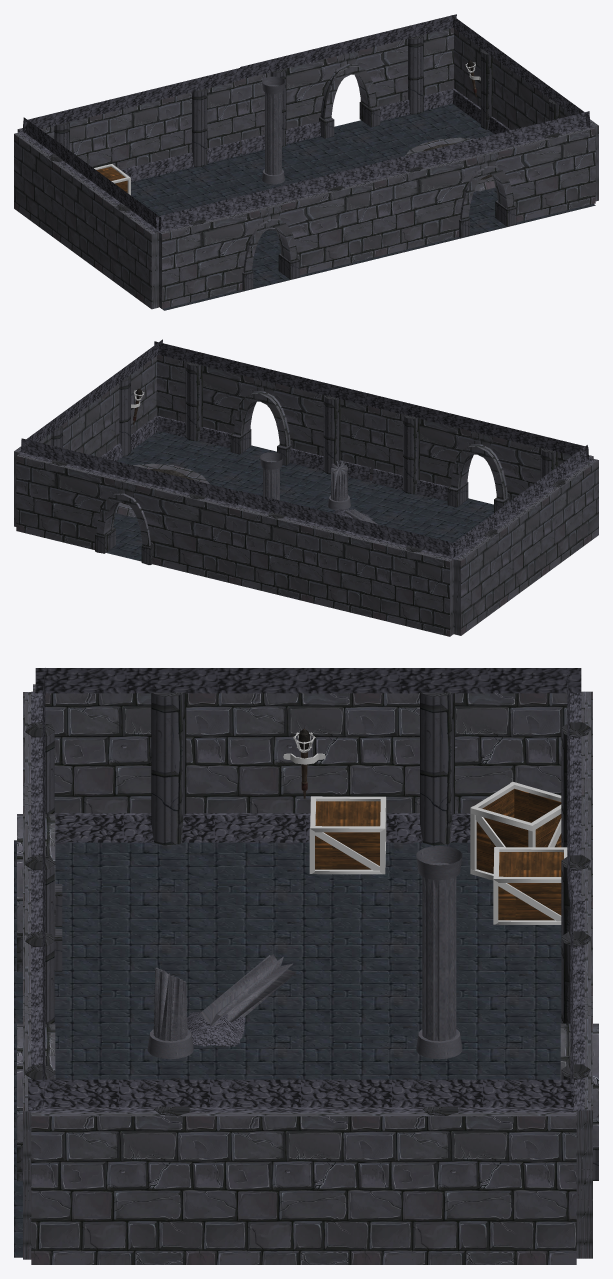
File: room_006.FBX
3 renders of one model, top to bottom at view 1: azimuth 30°, elevation 25°; view 2: azimuth 150°, elevation 25°; view 3: azimuth 270°, elevation 25°, orthographic. The views are drawn at different scales.
Visible parts, largest first — view 1: Box16, Box29, Box12, Plane02, Box48, Box01, Plane01, Box42, Box18, Box30, Box49, Box20 (+18 smaller); view 2: Box01, Box48, Box12, Box29, Plane02, Box16, Plane01, Box42, Box49, Box20, Box30, Box18 (+20 smaller); view 3: Box42, Plane01, Box12, Box41, Plane02, Box17, Box11, Cylinder12, Cylinder16, Cylinder15, Box48, Box05 (+27 smaller).
Part boxes in pixels (x1=…): Box16: x1=159, y1=180, x2=378, y2=308; Box29: x1=377, y1=127, x2=595, y2=255; Box12: x1=14, y1=132, x2=158, y2=309; Plane02: x1=240, y1=104, x2=595, y2=257; Box48: x1=238, y1=28, x2=453, y2=153; Box01: x1=17, y1=81, x2=238, y2=169; Plane01: x1=131, y1=155, x2=379, y2=310; Box42: x1=454, y1=29, x2=598, y2=201; Box18: x1=156, y1=164, x2=375, y2=232; Box30: x1=372, y1=111, x2=592, y2=179; Box49: x1=240, y1=14, x2=456, y2=79; Box20: x1=21, y1=67, x2=241, y2=133; Box01: x1=233, y1=507, x2=453, y2=636; Box48: x1=16, y1=454, x2=235, y2=583; Box12: x1=453, y1=458, x2=598, y2=635; Box29: x1=157, y1=355, x2=372, y2=480; Plane02: x1=106, y1=431, x2=372, y2=561; Box16: x1=372, y1=407, x2=593, y2=501; Plane01: x1=330, y1=482, x2=493, y2=542; Box42: x1=14, y1=356, x2=156, y2=526; Box49: x1=18, y1=438, x2=238, y2=507; Box20: x1=235, y1=490, x2=455, y2=559; Box30: x1=154, y1=341, x2=371, y2=406; Box18: x1=371, y1=394, x2=591, y2=459; Box42: x1=31, y1=1110, x2=576, y2=1264; Plane01: x1=14, y1=840, x2=561, y2=1048; Box12: x1=33, y1=684, x2=567, y2=813; Box41: x1=28, y1=1079, x2=573, y2=1112; Plane02: x1=14, y1=1048, x2=560, y2=1257; Box17: x1=35, y1=668, x2=581, y2=693; Box11: x1=54, y1=813, x2=470, y2=842; Cylinder12: x1=422, y1=864, x2=456, y2=1041; Cylinder16: x1=151, y1=692, x2=186, y2=845; Cylinder15: x1=420, y1=692, x2=454, y2=845; Box48: x1=576, y1=900, x2=592, y2=1258; Box05: x1=315, y1=801, x2=380, y2=869.
Bounding box in the file's own units: 2273 × 504 × 1300.
